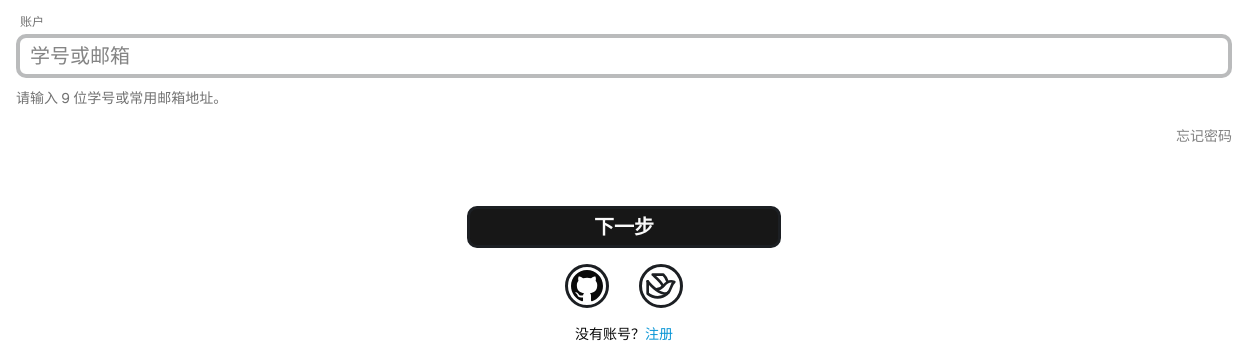
Test: LoginStep1 › rejects account values that are neither student ids nor emails
Type "bad account" into the field labelled "账户" at (624, 56), box [16,34,1232,78]
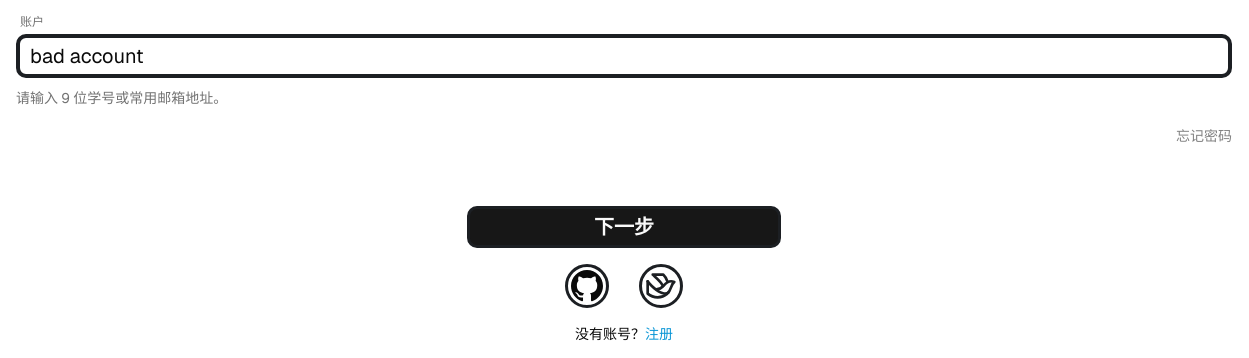
Click the button "下一步" at (624, 227), box [467,206,781,248]
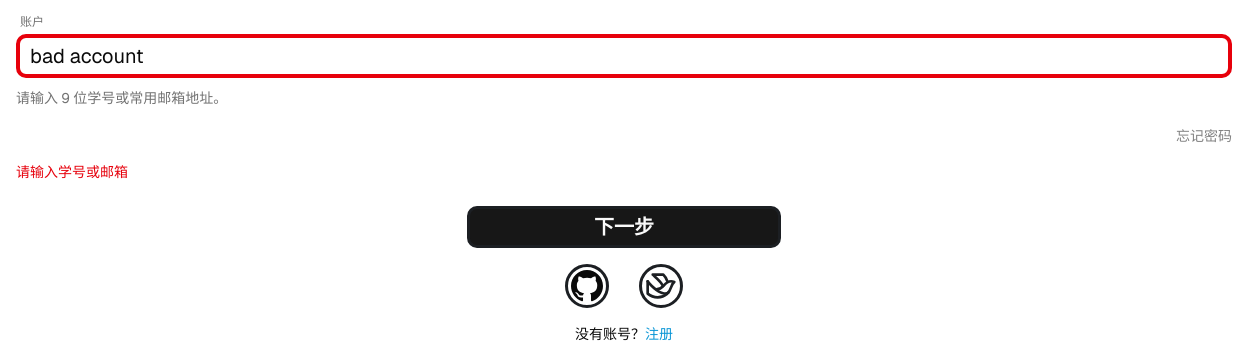
Check: the text "请输入学号或邮箱" is shown, box [16,163,128,181]
